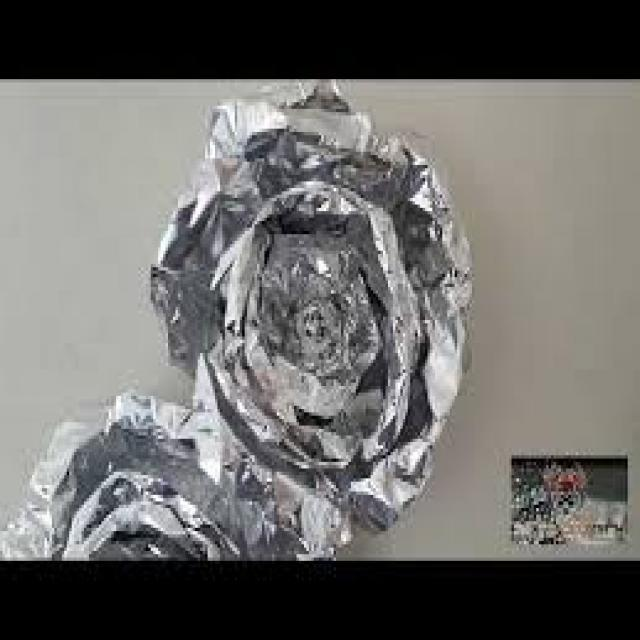recyclable: (148, 76, 470, 532), (0, 392, 348, 554)
